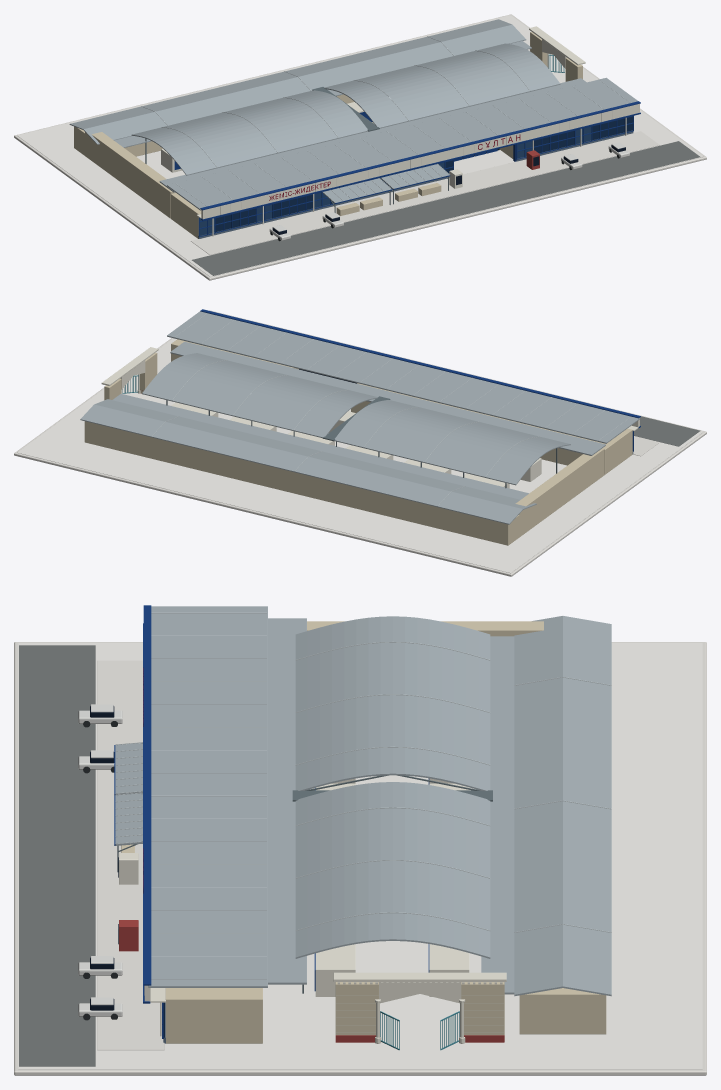
Rendered from kaikarmet.glb.
The picture shows the model from 3 angles, top to bottom: view 1: azimuth 30°, elevation 25°; view 2: azimuth 150°, elevation 25°; view 3: azimuth 270°, elevation 25°; orthographic projection. The views are drawn at different scales.
Parts seen in each view (by area): view 1: kaikarmet_kaika_roof, kaikarmet_stone, kaikarmet_kaika_asphalt, kaikarmet_chalk, kaikarmet_kaika_masonry, kaikarmet_kaika_cream, kaikarmet_kaika_blue, kaikarmet_kaika_glass, kaikarmet_kaika_rib, kaikarmet_kaika_skyglass, kaikarmet_kaika_plinth, kaikarmet_kaika_car (+1 smaller); view 2: kaikarmet_kaika_roof, kaikarmet_chalk, kaikarmet_kaika_masonry, kaikarmet_stone, kaikarmet_kaika_cream, kaikarmet_kaika_blue, kaikarmet_kaika_asphalt, kaikarmet_kaika_rib, kaikarmet_kaika_steel; view 3: kaikarmet_kaika_roof, kaikarmet_chalk, kaikarmet_kaika_asphalt, kaikarmet_stone, kaikarmet_kaika_masonry, kaikarmet_kaika_cream, kaikarmet_kaika_rib, kaikarmet_kaika_blue, kaikarmet_kaika_car, kaikarmet_kaika_red, kaikarmet_kaika_steel, kaikarmet_kaika_gate.
Part boxes in pixels (bbox=[...]): kaikarmet_kaika_roof: bbox=[69, 19, 637, 210]; kaikarmet_stone: bbox=[14, 14, 706, 280]; kaikarmet_kaika_asphalt: bbox=[192, 141, 699, 275]; kaikarmet_chalk: bbox=[17, 15, 703, 276]; kaikarmet_kaika_masonry: bbox=[74, 32, 582, 238]; kaikarmet_kaika_cream: bbox=[161, 26, 639, 236]; kaikarmet_kaika_blue: bbox=[174, 101, 640, 237]; kaikarmet_kaika_glass: bbox=[216, 116, 632, 231]; kaikarmet_kaika_rib: bbox=[141, 36, 630, 206]; kaikarmet_kaika_skyglass: bbox=[199, 127, 591, 235]; kaikarmet_kaika_plinth: bbox=[198, 130, 633, 238]; kaikarmet_kaika_car: bbox=[269, 142, 629, 240]; kaikarmet_kaika_roof: bbox=[80, 311, 639, 524]; kaikarmet_chalk: bbox=[17, 338, 703, 573]; kaikarmet_kaika_masonry: bbox=[84, 339, 632, 545]; kaikarmet_stone: bbox=[14, 310, 706, 576]; kaikarmet_kaika_cream: bbox=[101, 347, 639, 488]; kaikarmet_kaika_blue: bbox=[200, 309, 640, 451]; kaikarmet_kaika_asphalt: bbox=[634, 416, 700, 446]; kaikarmet_kaika_rib: bbox=[151, 313, 630, 505]; kaikarmet_kaika_steel: bbox=[166, 396, 557, 488]; kaikarmet_kaika_roof: bbox=[115, 606, 611, 996]; kaikarmet_chalk: bbox=[18, 643, 702, 1069]; kaikarmet_kaika_asphalt: bbox=[19, 645, 95, 1066]; kaikarmet_stone: bbox=[14, 642, 706, 1075]; kaikarmet_kaika_masonry: bbox=[121, 621, 606, 1043]; kaikarmet_kaika_cream: bbox=[119, 778, 506, 1043]; kaikarmet_kaika_rib: bbox=[115, 612, 611, 979]; kaikarmet_kaika_blue: bbox=[114, 605, 429, 1038]; kaikarmet_kaika_car: bbox=[78, 704, 122, 1016]; kaikarmet_kaika_red: bbox=[119, 920, 504, 1042]; kaikarmet_kaika_steel: bbox=[117, 743, 492, 993]; kaikarmet_kaika_gate: bbox=[380, 1011, 459, 1050].
Bounding box in the file's own units: 94 × 8.06 × 64.
